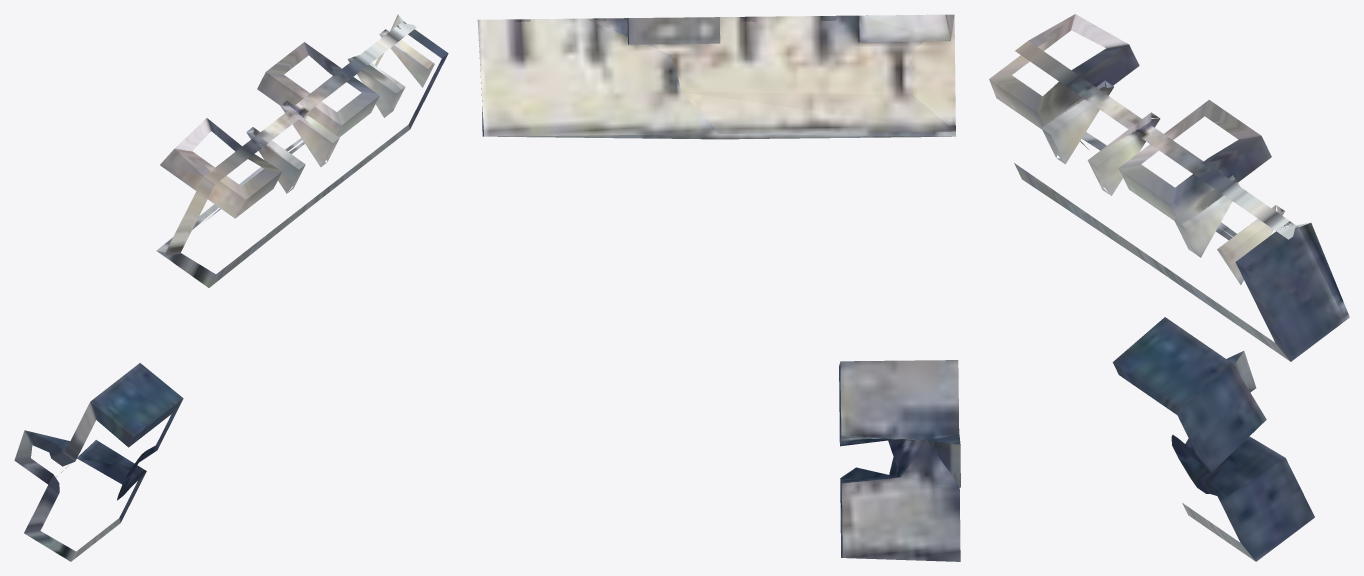
The picture shows the model from 3 angles, left to right: view 1: azimuth 30°, elevation 25°; view 2: azimuth 150°, elevation 25°; view 3: azimuth 270°, elevation 25°; orthographic projection. The views are drawn at different scales.
Bounding box in the file's own units: 64.66 × 62.48 × 37.94.
Materials: 1 (1 with a texture image).
